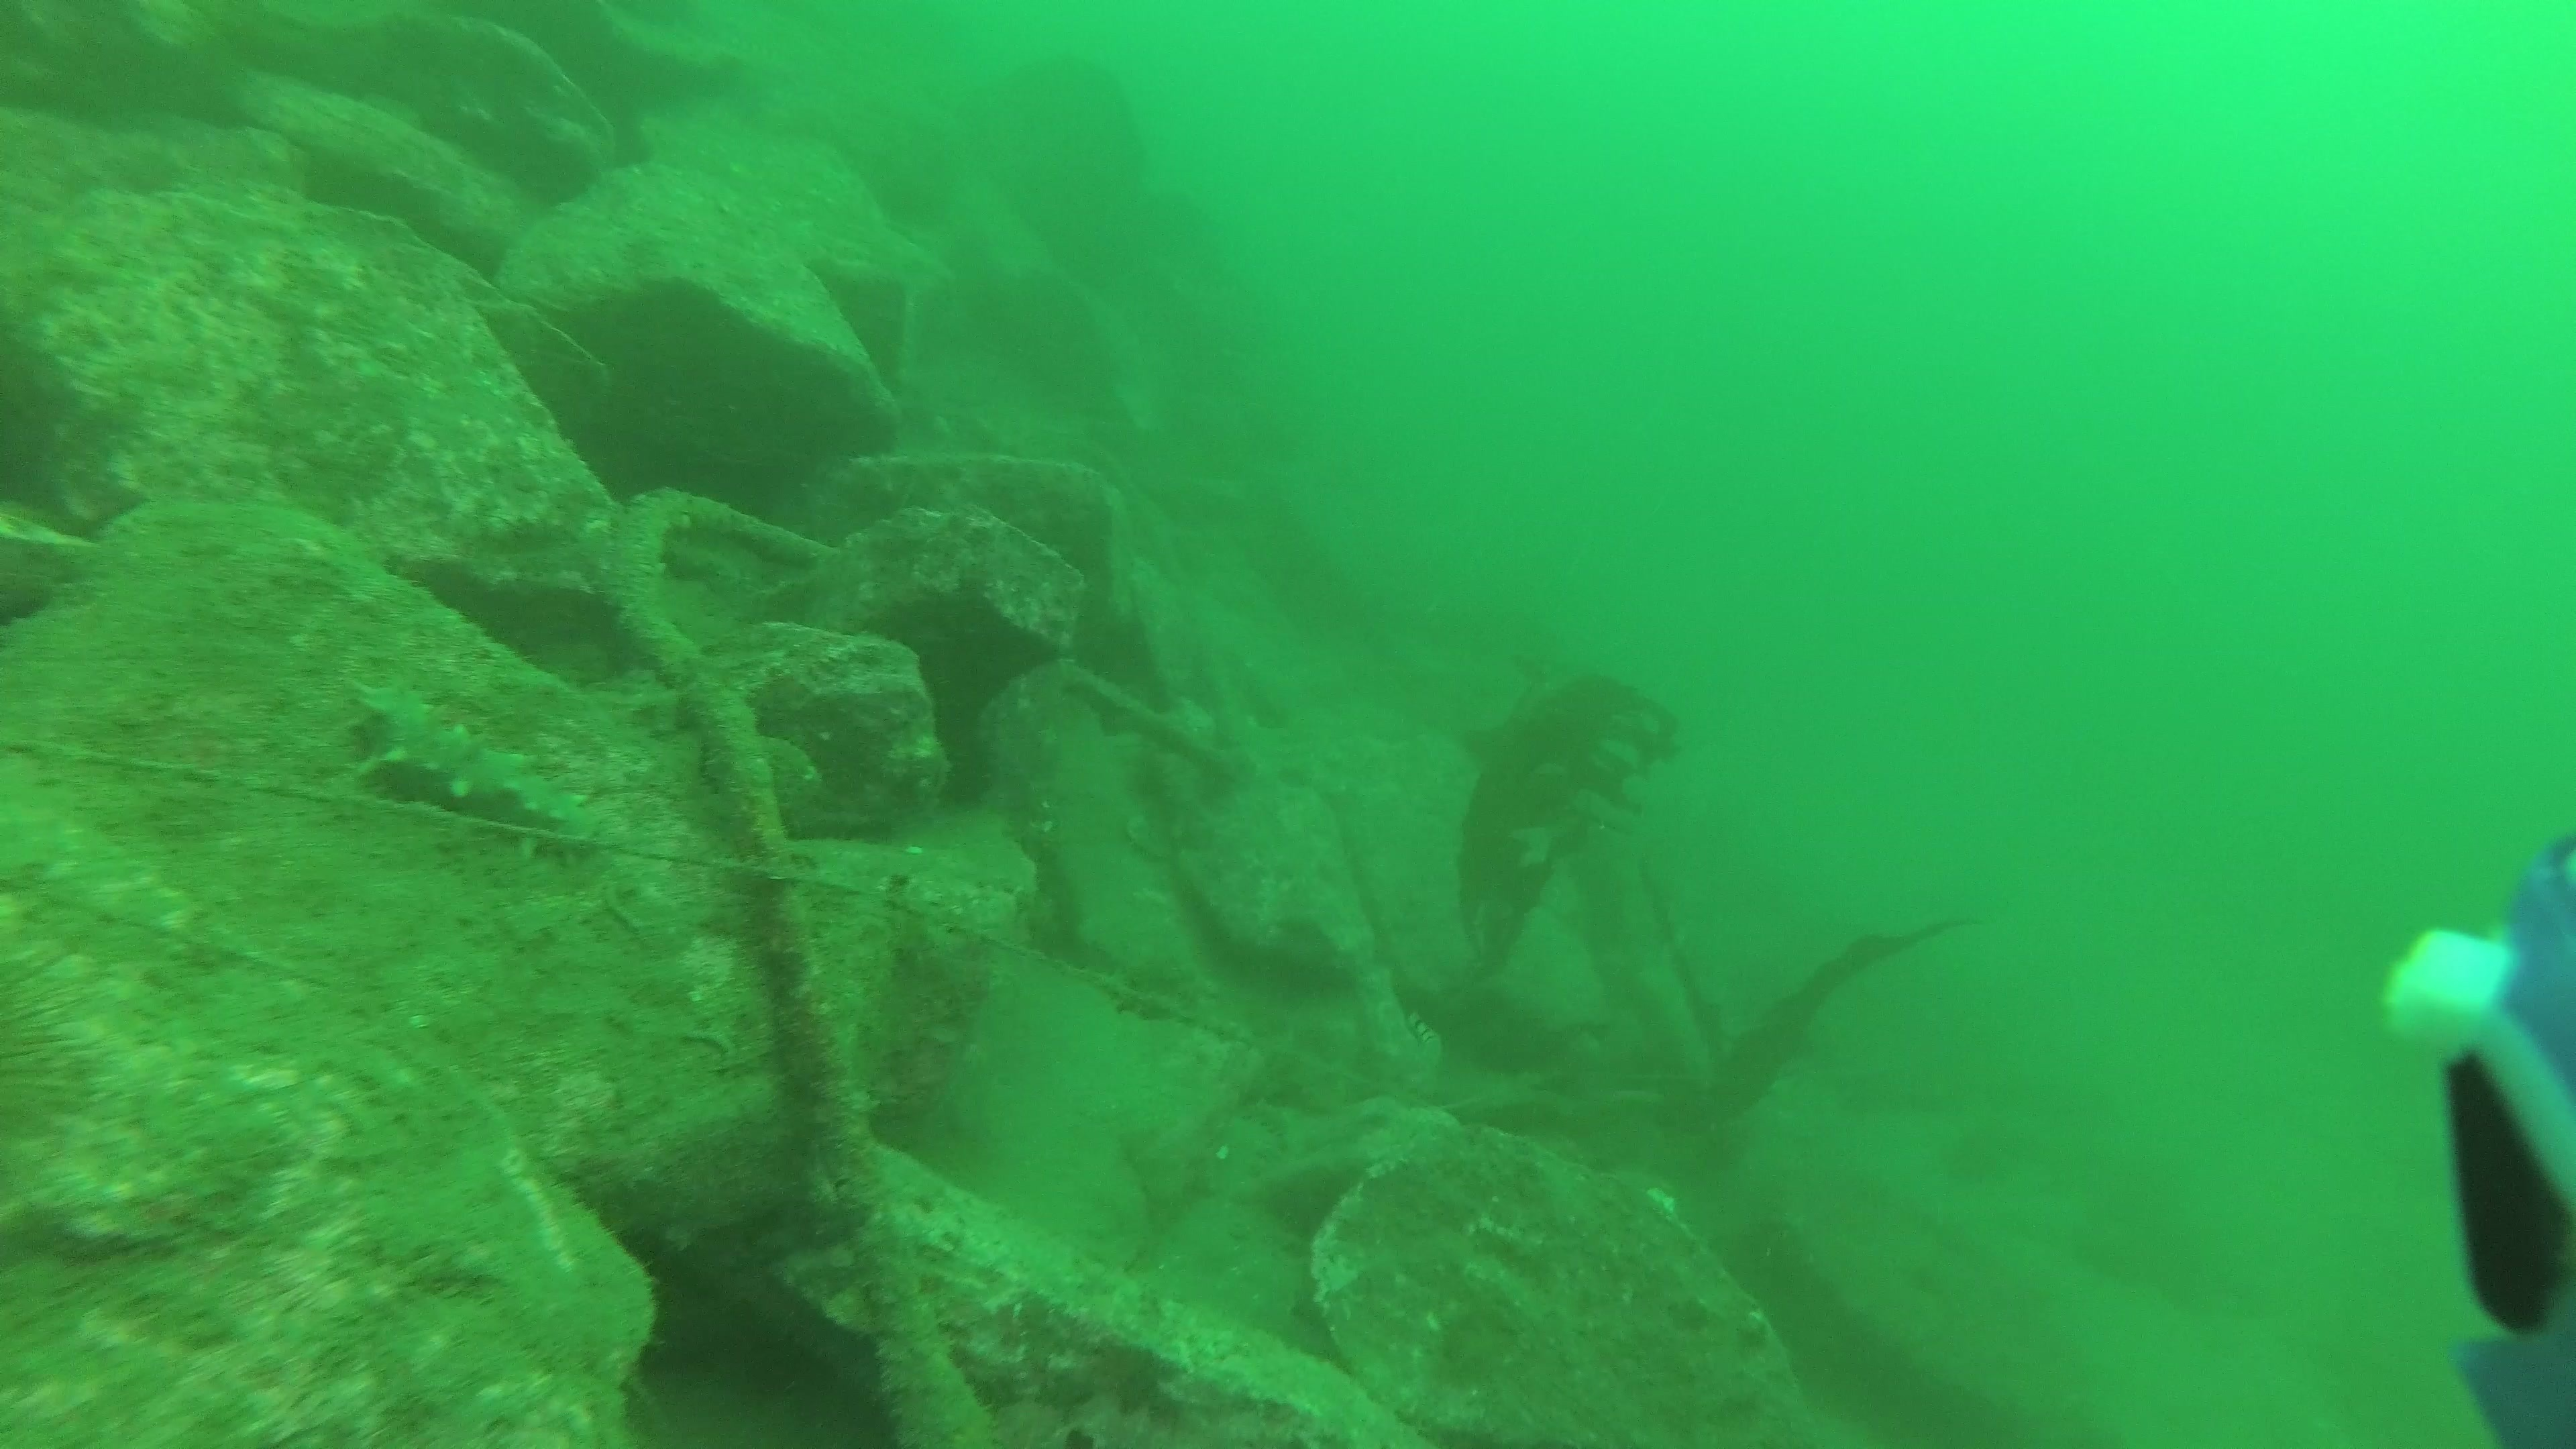holothurian: (331, 671, 610, 878)
